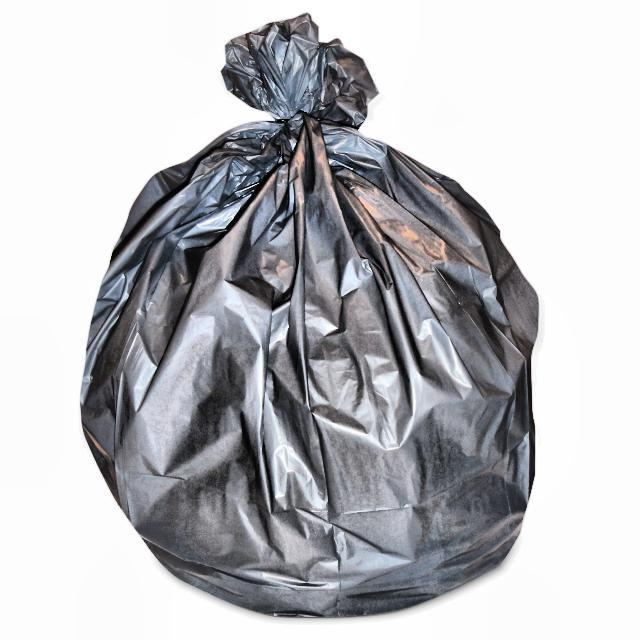Trashbag: (71, 115, 557, 620)
